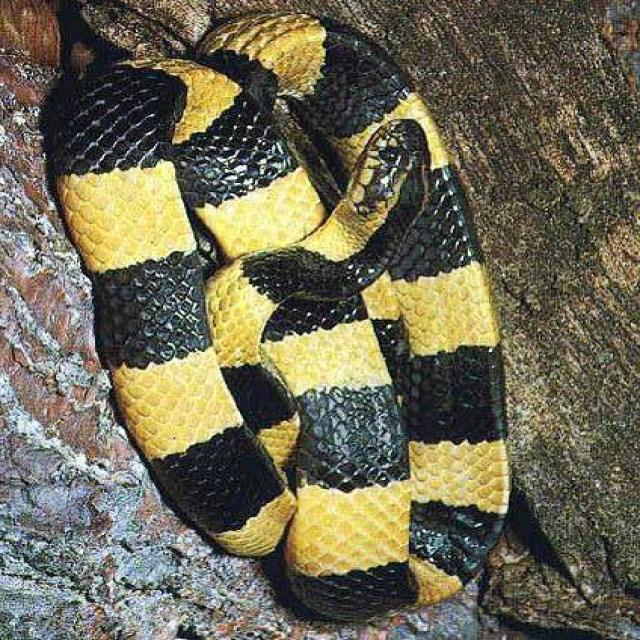Venomous: (65, 10, 542, 608)
